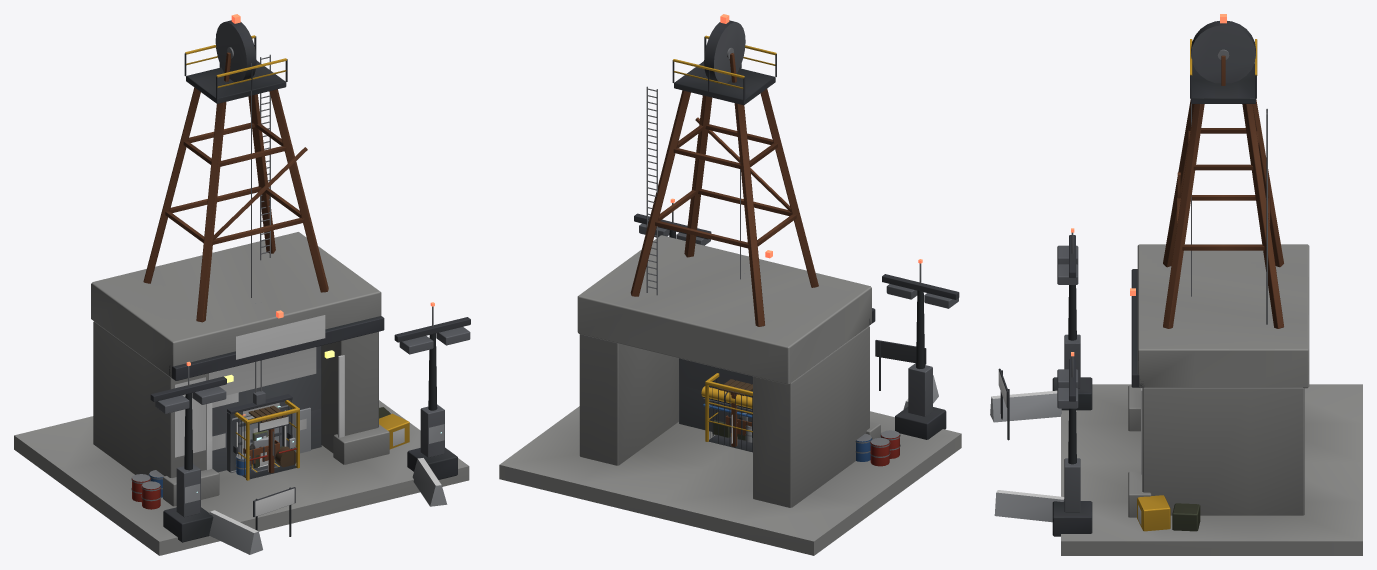
The model's file is Mine_Kit.e75fedb360.glb.
3 views of the same model, side by side, from view 1: azimuth 30°, elevation 25°; view 2: azimuth 150°, elevation 25°; view 3: azimuth 270°, elevation 25° (orthographic). The views are drawn at different scales.
Parts seen in each view (by area): view 1: portal, korb, tor, deko, stuetze; view 2: portal, korb, leitung, stuetze; view 3: portal.
Boxes of the visible parts, left/top/right/bottom form: portal: left=14, top=14, right=470, bottom=555; korb: left=234, top=302, right=299, bottom=480; tor: left=227, top=394, right=293, bottom=472; deko: left=235, top=436, right=296, bottom=475; stuetze: left=248, top=405, right=287, bottom=473; portal: left=499, top=14, right=961, bottom=555; korb: left=705, top=273, right=752, bottom=452; leitung: left=701, top=386, right=752, bottom=417; stuetze: left=718, top=379, right=752, bottom=446; portal: left=990, top=14, right=1362, bottom=555.
Size of the model in its own units: 16.4 by 21.96 by 16.05.
